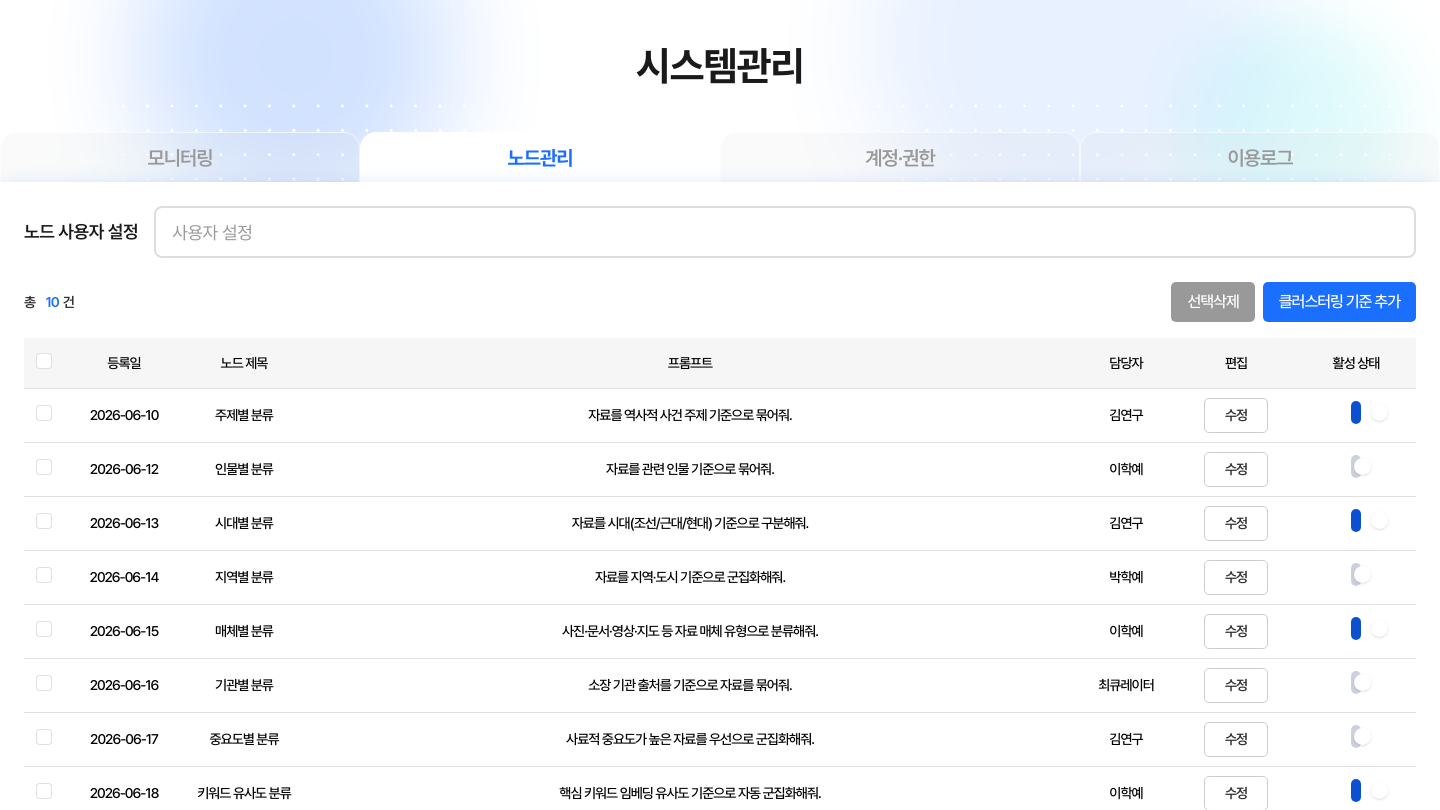
ToggleSwitch role=switch는 10개가 그대로 렌더되고 클릭해도 상태가 바뀌지 않는다(D2b 준비중)
The image size is (1440, 810).
Click the switch named "활성 토글 c1". click: click(1356, 413)
box: [1351,401,1361,424]
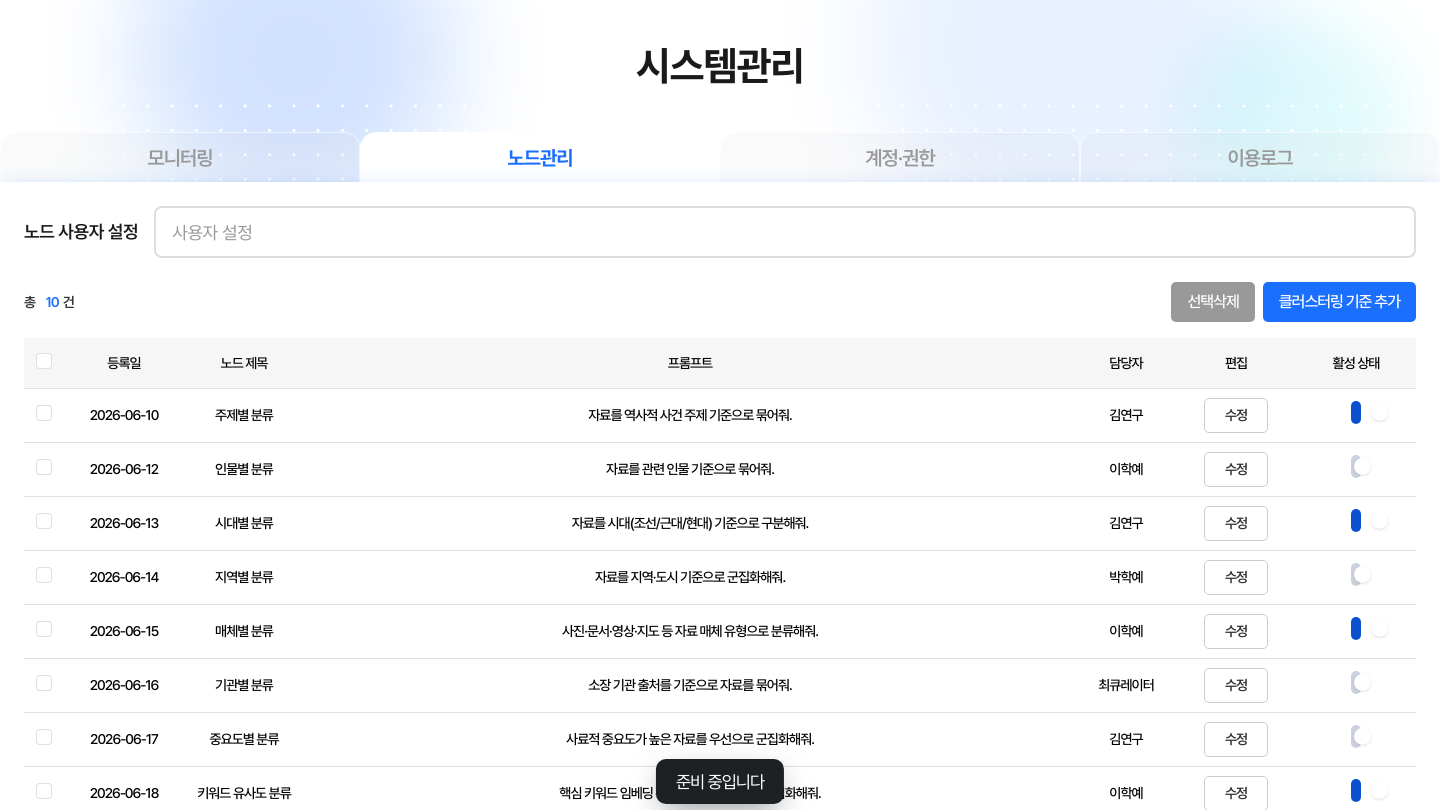
Expected: the message reads "준비 중입니다", [676,771,764,792]
